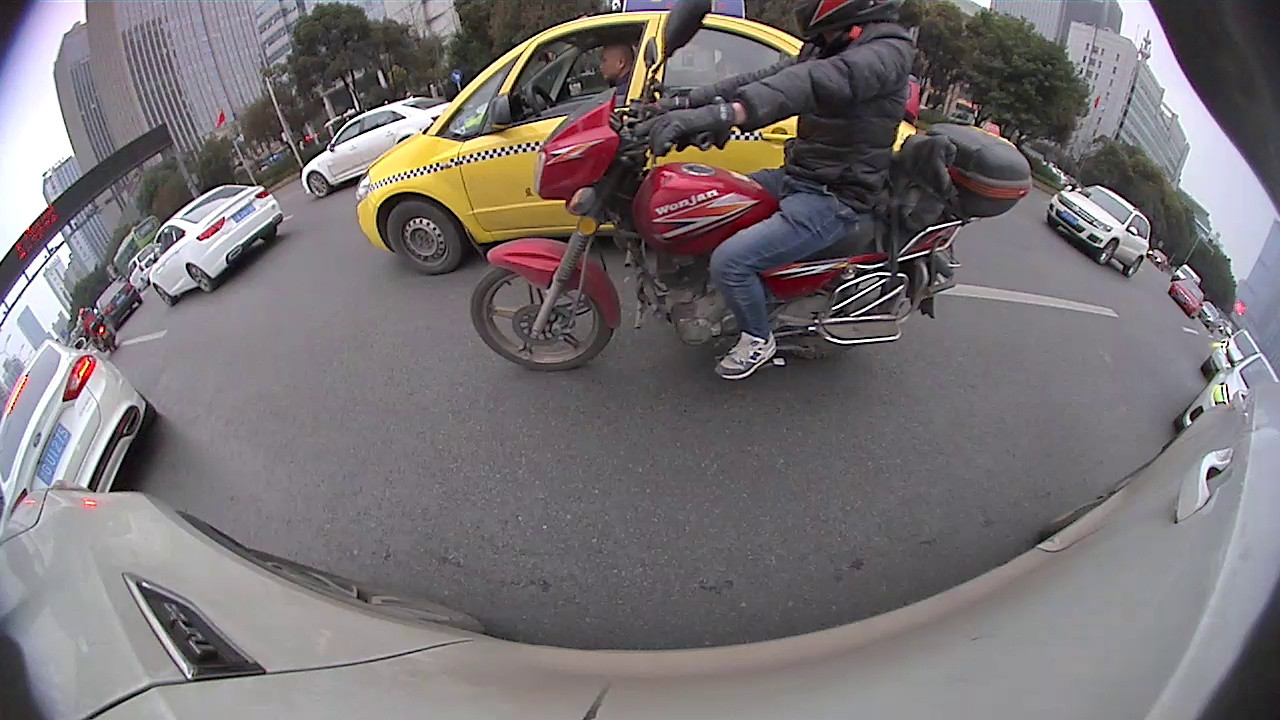car: (358, 2, 804, 271), (1, 342, 158, 503), (149, 187, 281, 307), (304, 98, 458, 198), (1048, 185, 1150, 277), (1175, 355, 1278, 433), (1202, 330, 1264, 377), (95, 278, 141, 319)
front: (472, 264, 617, 372), (380, 198, 467, 276), (305, 171, 331, 199), (1097, 235, 1120, 265), (153, 283, 175, 308)
rear: (186, 262, 215, 292), (1125, 254, 1145, 276)
rider: (473, 1, 1032, 372), (78, 309, 118, 354)
